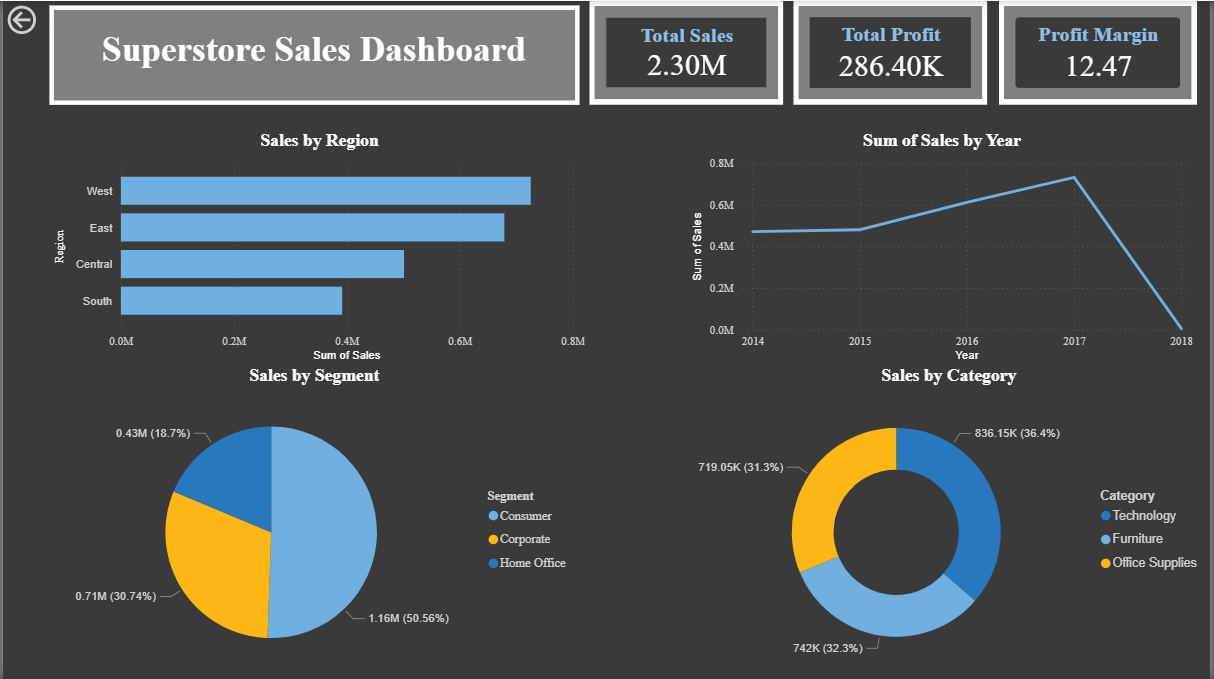

Layout of this report page (visuals, bound fields, positions):
{"tool":"powerbi","page":{"name":"Page 1","canvas":[1280,720],"ordinal":0},"visuals":[{"type":"cardVisual","title":"TOTAL SALES","fields":{"Data":["Sum(Superstore.Sales)"]},"box":[621.9,0,205.2,109.8],"z":0},{"type":"cardVisual","fields":{"Data":["Sum(Superstore.Profit)"]},"box":[838.3,0,205.2,109.8],"z":1},{"type":"clusteredBarChart","title":"Sales by Region","fields":{"Category":["Superstore.Region"],"Y":["Sum(Superstore.Sales)"]},"box":[49.3,136.8,572.6,249.7],"z":2},{"type":"actionButton","box":[0,0,100,40],"z":4},{"type":"lineChart","fields":{"Y":["Sum(Superstore.Sales)"],"Category":["Superstore.Order Date.Variation.Date Hierarchy.Year"]},"box":[725.3,136.8,540.8,249.7],"z":6},{"type":"pieChart","title":"Sales by Segment","fields":{"Category":["Superstore.Segment"],"Y":["Sum(Superstore.Sales)"]},"box":[49.3,386.5,561.5,332.4],"z":7},{"type":"textbox","box":[49.8,4,561.7,105.6],"z":10},{"type":"cardVisual","fields":{"Data":["Superstore.Profit Margin"]},"box":[1056.2,0,210,109.8],"z":12},{"type":"donutChart","title":"Sales by Category","fields":{"Category":["Superstore.Category"],"Y":["Sum(Superstore.Sales)"]},"box":[725.3,386.5,555.1,332.4],"z":13}]}

Visuals, with their boxes in screenshot pixels (x1, y1, x2, y2), scaled from the page's 1280x720 canvas onto the 1214x679 screenshot:
"TOTAL SALES" cardVisual: left=590, top=0, right=784, bottom=104
cardVisual - Sum(Superstore.Profit): left=795, top=0, right=990, bottom=104
"Sales by Region" clusteredBarChart: left=47, top=129, right=590, bottom=364
actionButton: left=0, top=0, right=95, bottom=38
lineChart - Sum(Superstore.Sales) x Superstore.Order Date.Variation.Date Hierarchy.Year: left=688, top=129, right=1201, bottom=364
"Sales by Segment" pieChart: left=47, top=364, right=579, bottom=678
textbox: left=47, top=4, right=580, bottom=103
cardVisual - Superstore.Profit Margin: left=1002, top=0, right=1201, bottom=104
"Sales by Category" donutChart: left=688, top=364, right=1213, bottom=678
